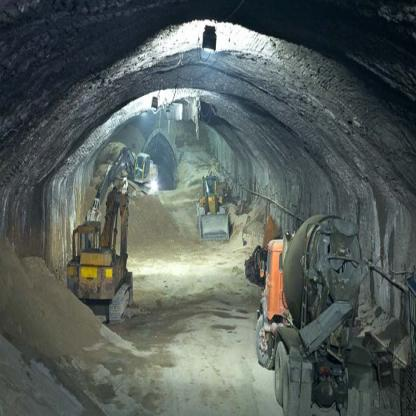bull_dozer/loader/grader: (182, 146, 244, 265)
dump_truck: (240, 195, 390, 409)
excavator: (64, 138, 152, 325), (96, 140, 162, 221)
